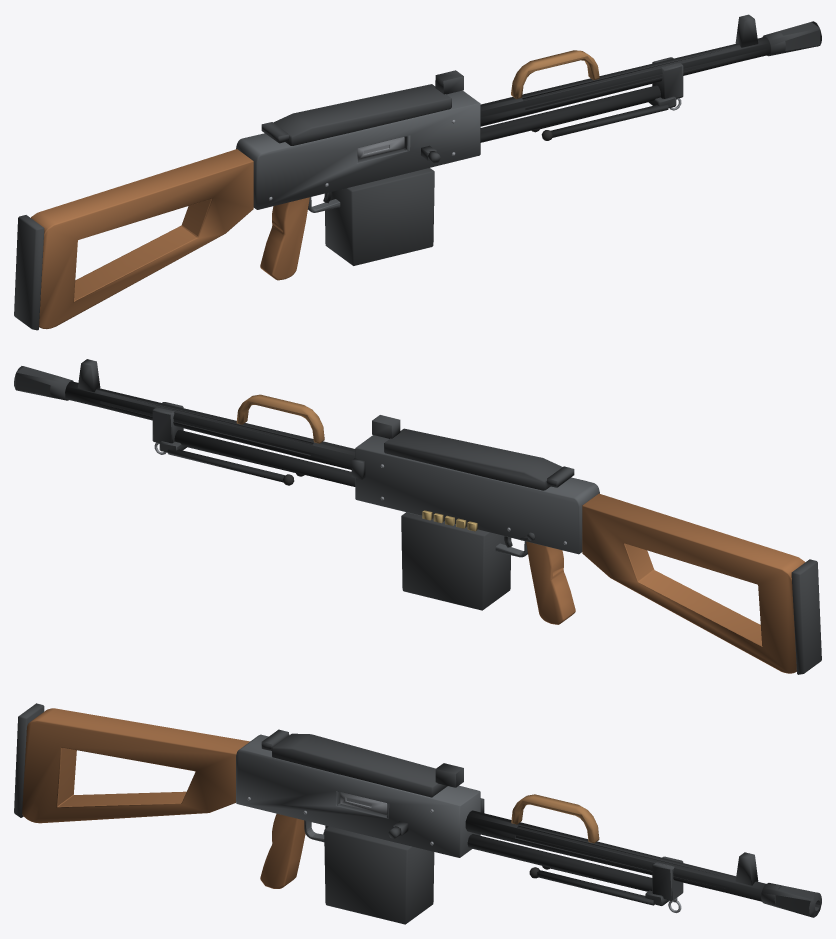
File: pkm.glb
The picture shows the model from 3 angles, top to bottom: view 1: azimuth 30°, elevation 25°; view 2: azimuth 150°, elevation 25°; view 3: azimuth 330°, elevation 25°; orthographic projection.
Parts seen in each view (by area): view 1: lod_metal_dark, lod_skin_wood, lod_skin_paint, lod_detail_wood, lod_metal_steel; view 2: lod_metal_dark, lod_skin_wood, lod_skin_paint, lod_detail_wood; view 3: lod_metal_dark, lod_skin_wood, lod_skin_paint, lod_detail_wood, lod_metal_steel.
Boxes of the visible parts, <box> form: lod_metal_dark: <box>14,14,821,330</box>; lod_skin_wood: <box>31,149,309,329</box>; lod_skin_paint: <box>236,90,480,212</box>; lod_detail_wood: <box>511,50,599,99</box>; lod_metal_steel: <box>269,98,681,200</box>; lod_metal_dark: <box>14,359,821,674</box>; lod_skin_wood: <box>526,493,805,673</box>; lod_skin_paint: <box>355,435,599,557</box>; lod_detail_wood: <box>236,394,324,443</box>; lod_metal_dark: <box>14,703,821,924</box>; lod_skin_wood: <box>22,708,305,888</box>; lod_skin_paint: <box>236,734,480,857</box>; lod_detail_wood: <box>511,794,599,843</box>; lod_metal_steel: <box>247,792,681,913</box>.
Size of the model in its own units: 1.13 by 0.2144 by 0.0887.
